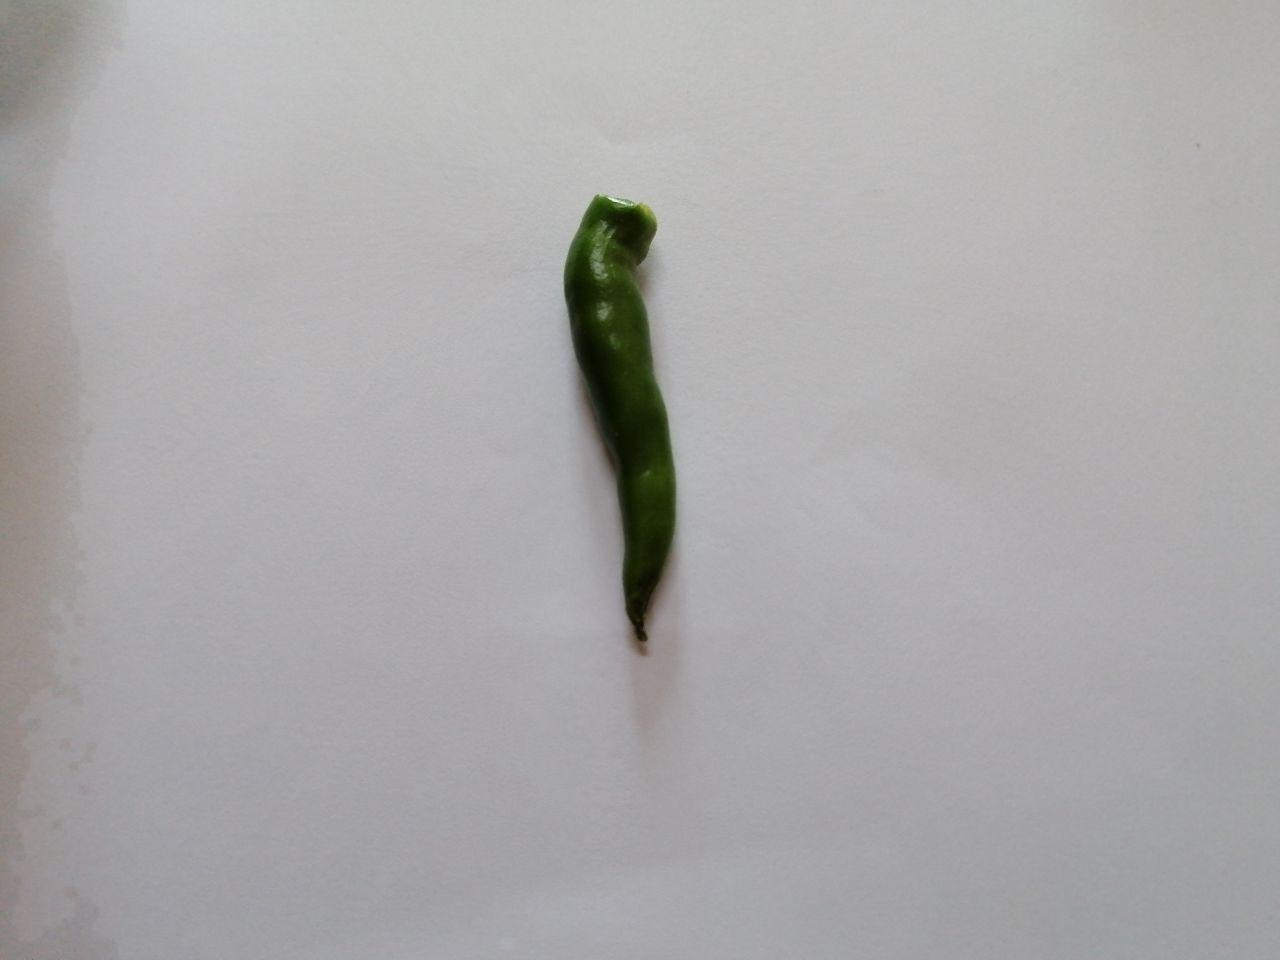lada hijau: (531, 181, 705, 665)
